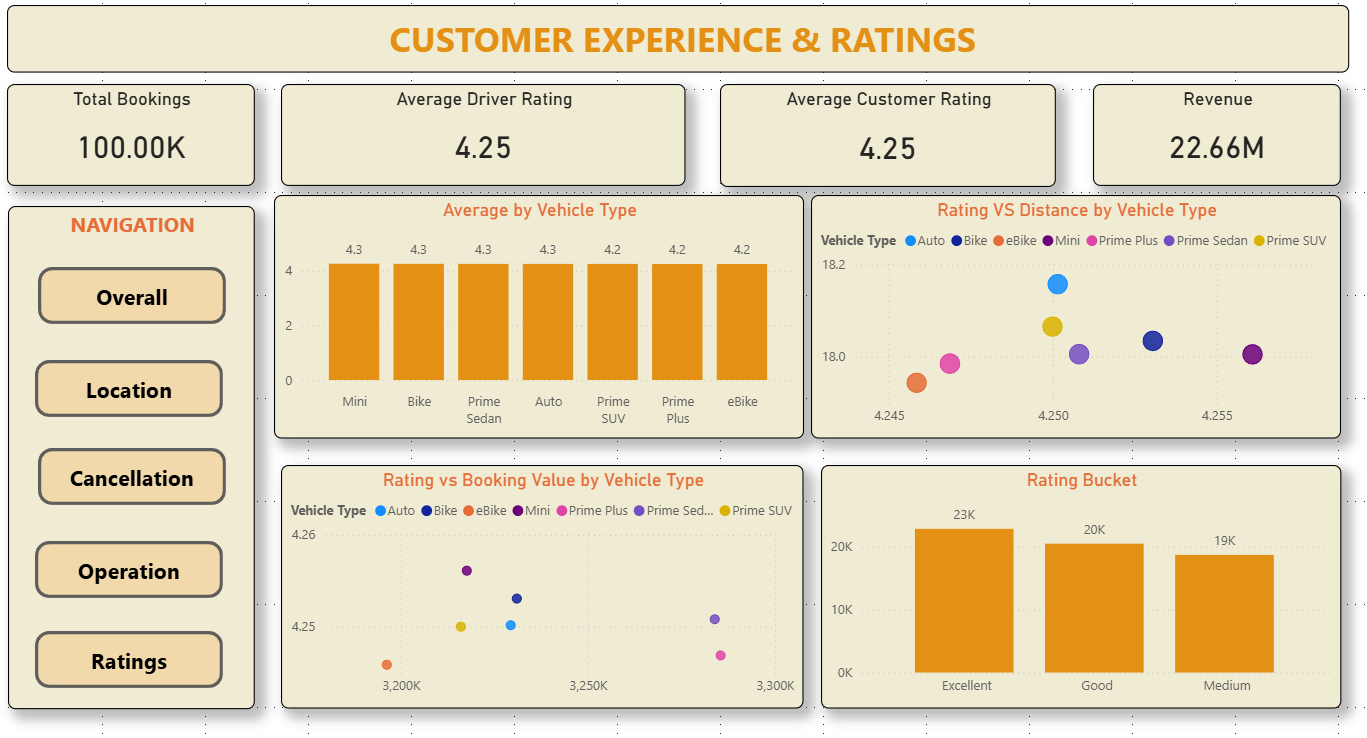

The page's visual inventory and layout, read from the dashboard file:
{"tool":"powerbi","page":{"name":" CUSTOMER EXPERIENCE & RATINGS","canvas":[1280,720],"ordinal":4},"visuals":[{"type":"card","title":"Total Bookings","fields":{"Values":["Count(Bangalore_Ride_Bookings.Booking ID)"]},"box":[7.5,91.3,231.1,95.1],"z":0},{"type":"card","title":"Average Customer Rating","fields":{"Values":["Avg(Bangalore_Ride_Bookings.Customer Rating)"]},"box":[672,91.3,313.2,96],"z":1000},{"type":"card","title":"Average Driver Rating","fields":{"Values":["Avg(Bangalore_Ride_Bookings.Driver Ratings)"]},"box":[262.8,91.3,377.5,95.1],"z":2000},{"type":"textbox","box":[7.5,17.7,1250.8,63.4],"z":3000},{"type":"textbox","title":"NAVIGATION","box":[8.4,205,230.2,468.8],"z":4000},{"type":"columnChart","title":"Rating  Bucket","fields":{"Category":["Bangalore_Ride_Bookings.Rating Bucket"],"Y":["Bangalore_Ride_Bookings.Successful Rides"]},"box":[766.1,446.4,484.7,227.4],"z":5000},{"type":"columnChart","title":"Average by Vehicle Type","fields":{"Y":["Avg(Bangalore_Ride_Bookings.Customer Rating)"],"Category":["Bangalore_Ride_Bookings.Vehicle Type"]},"box":[256.3,194.8,494,227.4],"z":6000},{"type":"card","title":"Revenue","fields":{"Values":["Sum(Bangalore_Ride_Bookings.Booking Value)"]},"box":[1019.7,91.3,231.1,95.1],"z":9000},{"type":"scatterChart","title":"Rating VS Distance by Vehicle Type","fields":{"X":["Avg(Bangalore_Ride_Bookings.Customer Rating)"],"Series":["Bangalore_Ride_Bookings.Vehicle Type"],"Y":["Avg(Bangalore_Ride_Bookings.Ride Distance (km))"],"Size":["Sum(Bangalore_Ride_Bookings.Booking Value)"]},"box":[756.8,194.8,494,227.4],"z":10002},{"type":"scatterChart","title":"Rating vs Booking Value by Vehicle Type","fields":{"X":["Sum(Bangalore_Ride_Bookings.Booking Value)"],"Series":["Bangalore_Ride_Bookings.Vehicle Type"],"Y":["Bangalore_Ride_Bookings.Customer Rating"]},"box":[262.8,446.4,487.5,227.4],"z":10003},{"type":"actionButton","box":[33.6,348.6,175.2,53.1],"z":10004},{"type":"actionButton","box":[36.3,430.6,175.2,53.1],"z":10005},{"type":"actionButton","box":[33.6,517.3,175.2,53.1],"z":10006},{"type":"actionButton","box":[33.6,601.2,175.2,53.1],"z":10007},{"type":"actionButton","box":[36.3,261.9,175.2,53.1],"z":10008}]}

Visuals, with their boxes on the page's 1280x720 design canvas (x1, y1, x2, y2). These are canvas units, not pixel positions in the 1367x738 screenshot, which may show the page scaled, cropped or inside an application window:
"Total Bookings" card: locate(8, 91, 239, 186)
"Average Customer Rating" card: locate(672, 91, 985, 187)
"Average Driver Rating" card: locate(263, 91, 640, 186)
textbox: locate(8, 18, 1258, 81)
"NAVIGATION" textbox: locate(8, 205, 239, 674)
"Rating  Bucket" columnChart: locate(766, 446, 1251, 674)
"Average by Vehicle Type" columnChart: locate(256, 195, 750, 422)
"Revenue" card: locate(1020, 91, 1251, 186)
"Rating VS Distance by Vehicle Type" scatterChart: locate(757, 195, 1251, 422)
"Rating vs Booking Value by Vehicle Type" scatterChart: locate(263, 446, 750, 674)
actionButton: locate(34, 349, 209, 402)
actionButton: locate(36, 431, 212, 484)
actionButton: locate(34, 517, 209, 570)
actionButton: locate(34, 601, 209, 654)
actionButton: locate(36, 262, 212, 315)
